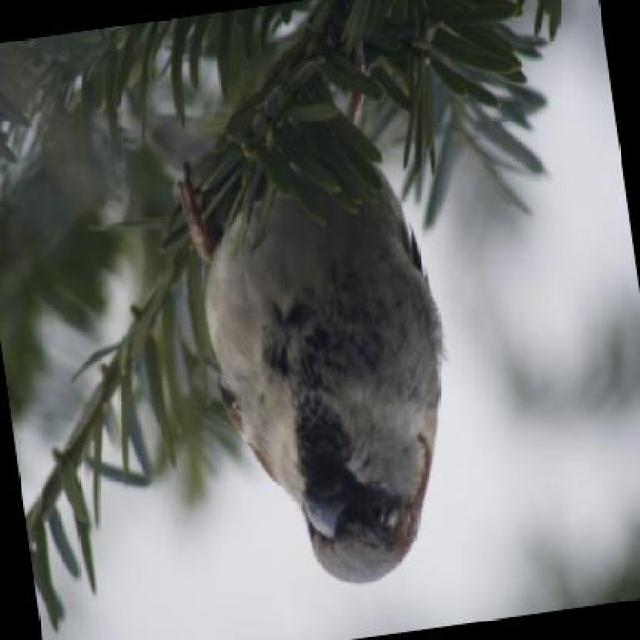sparrow: (189, 175, 471, 600)
